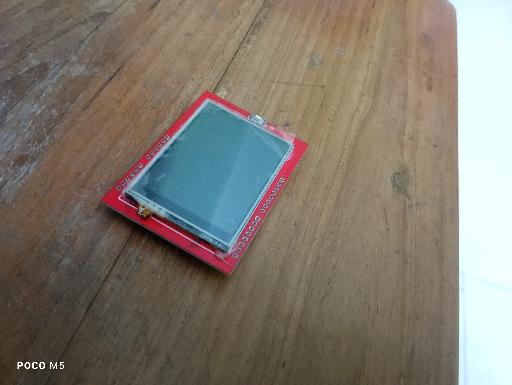Display: (99, 88, 310, 279)
